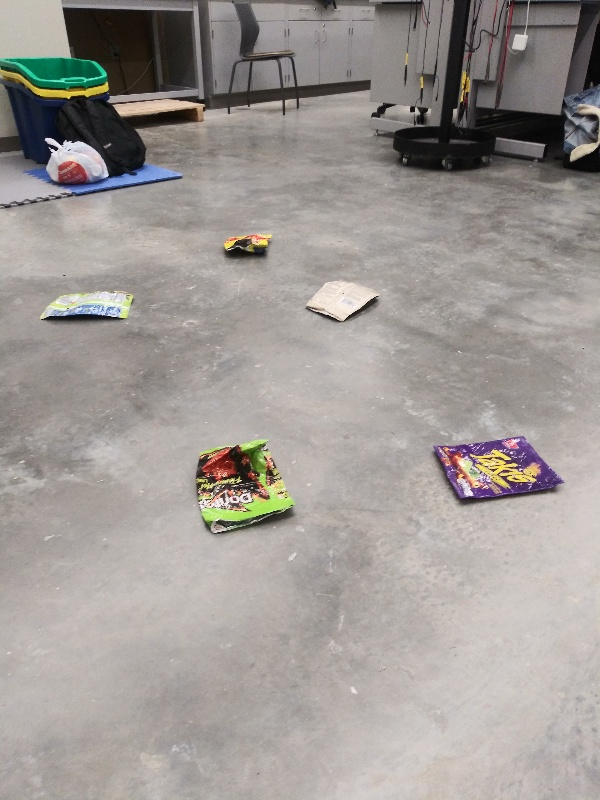bag: (189, 435, 297, 535), (428, 435, 567, 507), (31, 285, 141, 328), (300, 274, 384, 325), (221, 226, 275, 261)
